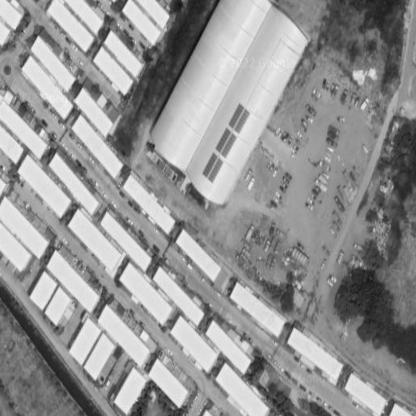solar-pv-panel: (201, 103, 251, 185)
